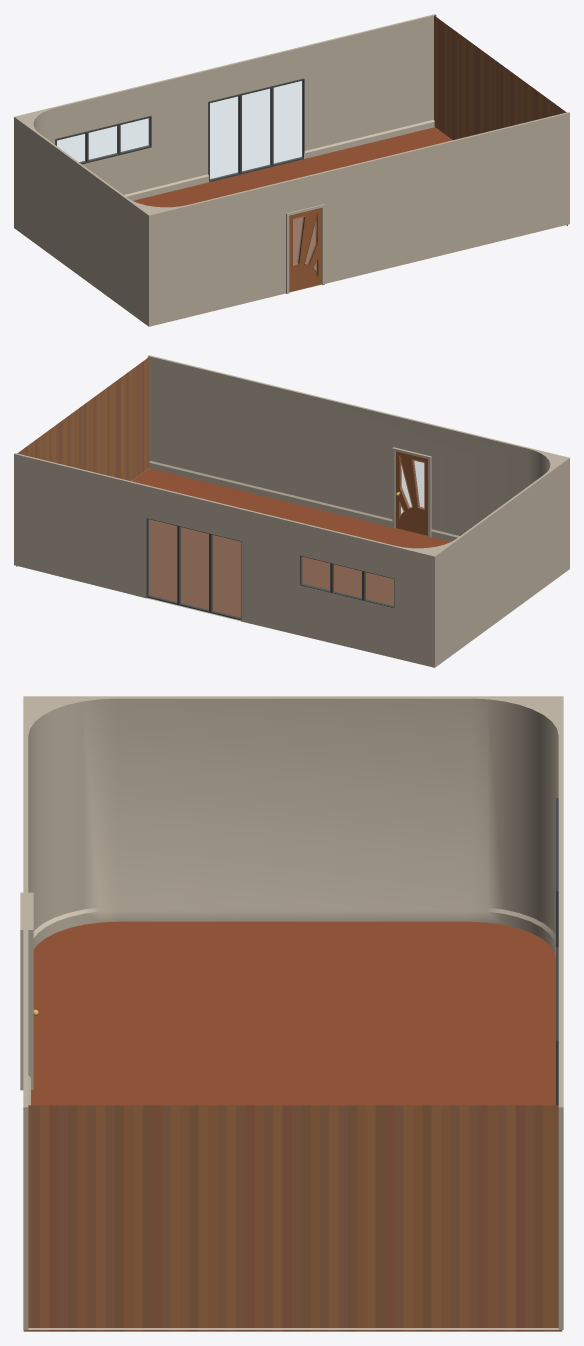
Rendered from Walls Test.fbx.
3 views of the same model, one above another, from view 1: azimuth 30°, elevation 25°; view 2: azimuth 150°, elevation 25°; view 3: azimuth 270°, elevation 25° (orthographic). The views are drawn at different scales.
Visible parts, largest first — view 1: Cube.011, Plane.080, Cube.010, Floor, Cube.012, Cube.008, Cube.009, Cube.013, Cube.007; view 2: Cube.011, Floor, Plane.080, Cube.010, Cube.012, Cube.008, Cube.009, Cube.007, Cube.013; view 3: Cube.011, Plane.080, Floor, Cube.007.
Part boxes in pixels (x1,y1,x2,y2): Cube.011: [14, 14, 569, 326]; Plane.080: [434, 15, 567, 225]; Cube.010: [210, 81, 302, 179]; Floor: [133, 127, 451, 270]; Cube.012: [289, 208, 321, 291]; Cube.008: [57, 118, 149, 162]; Cube.009: [208, 78, 304, 181]; Cube.013: [55, 116, 151, 164]; Cube.007: [286, 204, 324, 293]; Cube.011: [14, 355, 569, 667]; Floor: [132, 468, 450, 617]; Plane.080: [16, 356, 149, 566]; Cube.010: [148, 519, 240, 618]; Cube.012: [395, 451, 427, 535]; Cube.008: [301, 557, 393, 606]; Cube.009: [146, 518, 241, 620]; Cube.007: [392, 447, 431, 537]; Cube.013: [300, 555, 394, 607]; Cube.011: [23, 696, 563, 1329]; Plane.080: [23, 1105, 562, 1331]; Floor: [31, 921, 555, 1105]; Cube.007: [20, 892, 33, 1090].
Bounding box in the file's own units: 9900 × 5532 × 2541.
